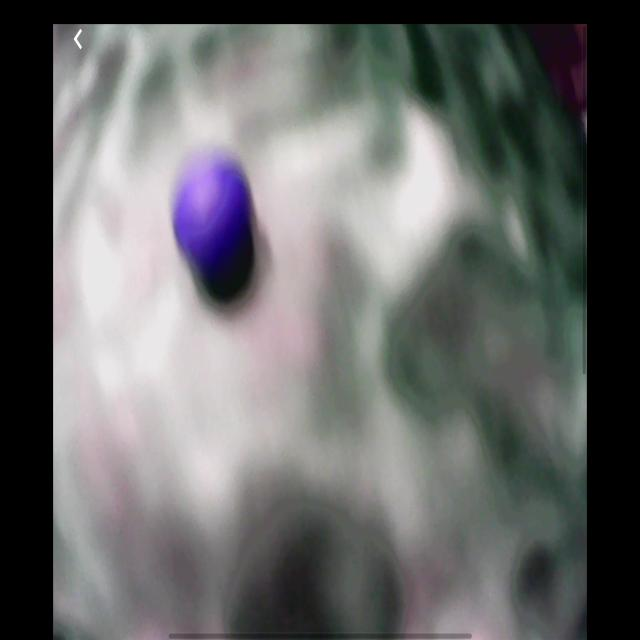ball: (173, 152, 250, 267)
